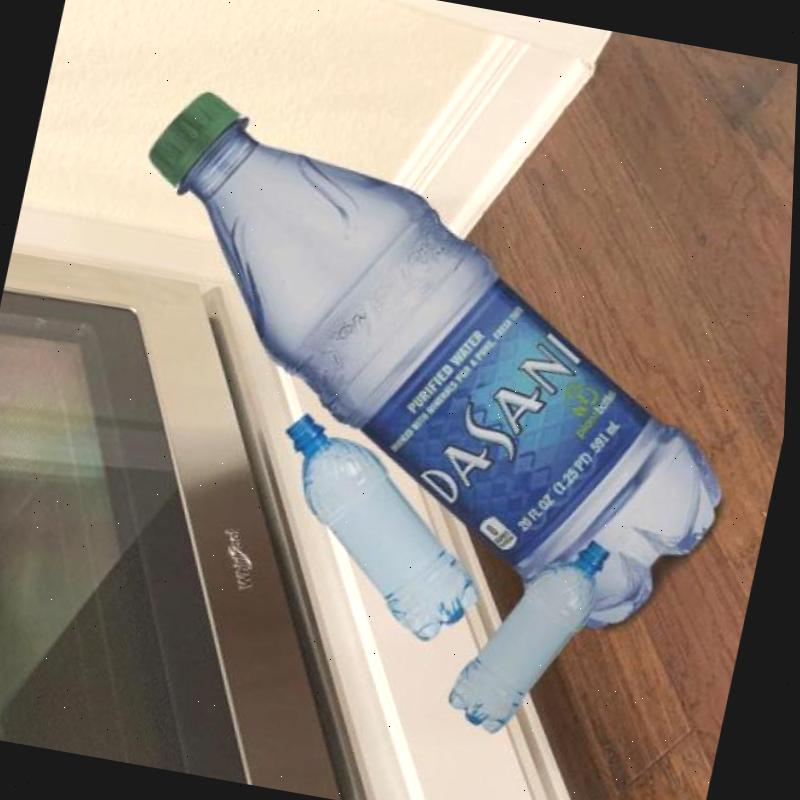botella: (64, 80, 798, 653), (249, 407, 513, 658), (445, 520, 616, 748)
